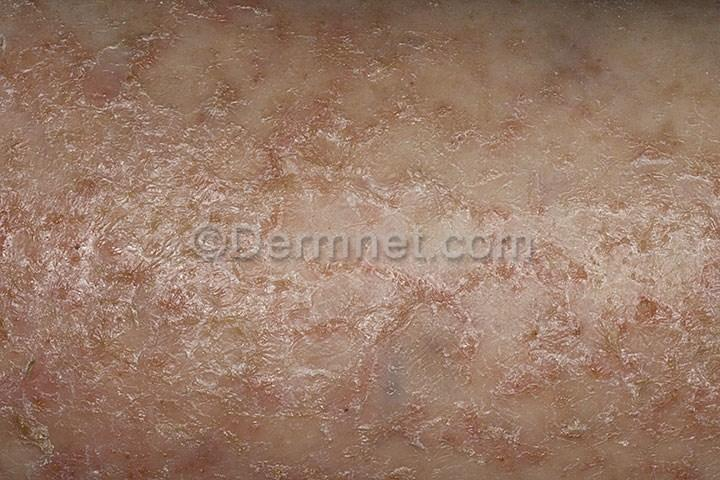Eczema: (131, 284, 693, 458), (114, 10, 605, 192)
